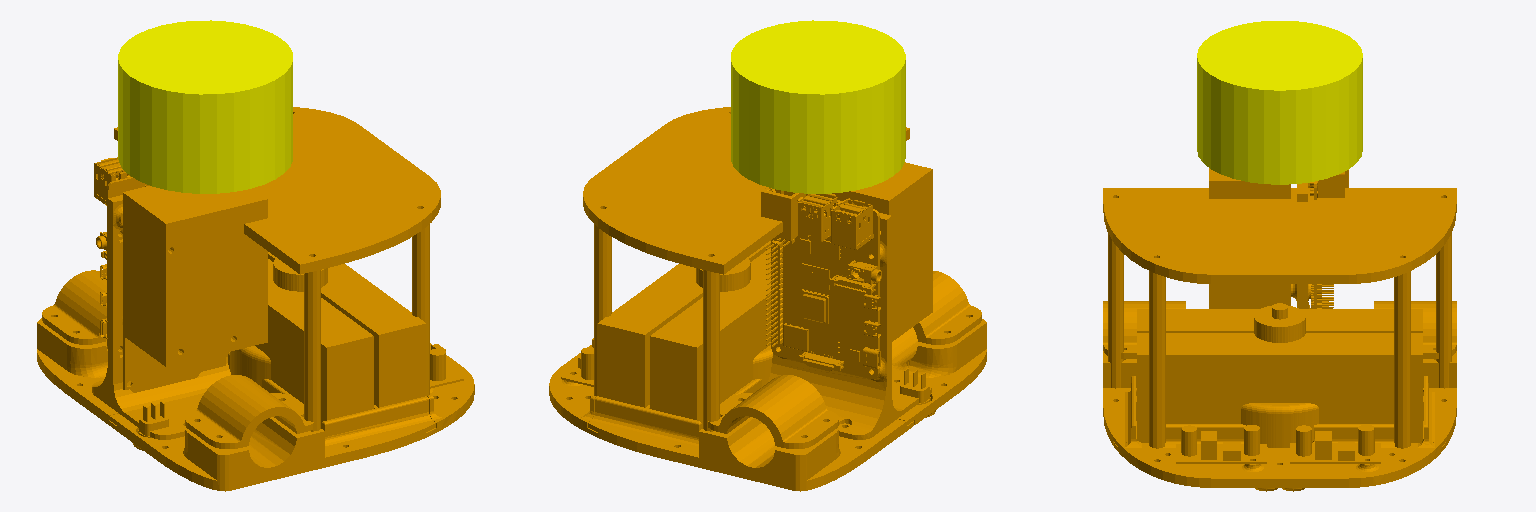
URDF robot description (course_robot):
<?xml version="1.0"?>
<!--
  Имя корневого линка = линк шасси в model.sdf и child_frame_id DiffDrive (course_robot_base_link).
  В RViz RobotModel: TF Prefix оставьте пустым — совпадает с child_frame_id DiffDrive (course_robot_base_link).
  Кадры вида course_robot/... из Gazebo склеиваются с base_link через static TF в start_everything.bash.
  Визуалы: rpy Z = 1.5708 как в model.sdf (меши CAD в мировой оси; без этого RViz «вбок» на 90° к Gazebo).
-->
<robot name="course_robot" version="1.0">
  <link name="course_robot_base_link">
    <visual>
      <origin xyz="0 0 0" rpy="0 0 1.5708"/>
      <geometry>
        <mesh filename="meshes/Platforma.STL" scale="1 1 1"/>
      </geometry>
    </visual>
    <visual>
      <origin xyz="0 0 0.1" rpy="0 0 1.5708"/>
      <geometry>
        <mesh filename="meshes/etaj_2.STL" scale="1 1 1"/>
      </geometry>
    </visual>
    <visual>
      <origin xyz="0 0 0" rpy="0 0 1.5708"/>
      <geometry>
        <mesh filename="meshes/Koleso_levoe.STL" scale="1 1 1"/>
      </geometry>
    </visual>
    <visual>
      <origin xyz="0 0 0" rpy="0 0 1.5708"/>
      <geometry>
        <mesh filename="meshes/Koleso_pravoe.STL" scale="1 1 1"/>
      </geometry>
    </visual>
    <visual>
      <origin xyz="0 0 0" rpy="0 0 1.5708"/>
      <geometry>
        <mesh filename="meshes/Motor_leviy.STL" scale="1 1 1"/>
      </geometry>
    </visual>
    <visual>
      <origin xyz="0 0 0" rpy="0 0 1.5708"/>
      <geometry>
        <mesh filename="meshes/Motor_praviy.STL" scale="1 1 1"/>
      </geometry>
    </visual>
    <visual>
      <origin xyz="0 0 0" rpy="0 0 1.5708"/>
      <geometry>
        <mesh filename="meshes/Sharik_levo.STL" scale="1 1 1"/>
      </geometry>
    </visual>
    <visual>
      <origin xyz="0 0 0" rpy="0 0 1.5708"/>
      <geometry>
        <mesh filename="meshes/Sharik_niz.STL" scale="1 1 1"/>
      </geometry>
    </visual>
    <visual>
      <origin xyz="0 0 0" rpy="0 0 1.5708"/>
      <geometry>
        <mesh filename="meshes/Sharik_pravo.STL" scale="1 1 1"/>
      </geometry>
    </visual>
  </link>

  <link name="course_robot/lidar_link">
    <visual>
      <origin xyz="0 0 0" rpy="0 0 0"/>
      <geometry>
        <cylinder radius="0.04" length="0.05"/>
      </geometry>
      <material name="yellow">
        <color rgba="1.0 1.0 0.0 1.0"/>
      </material>
    </visual>
  </link>

  <joint name="lidar_joint" type="fixed">
    <parent link="course_robot_base_link"/>
    <child link="course_robot/lidar_link"/>
    <!-- Как lidar_link pose в model.sdf (relative_to course_robot_base_link) -->
    <origin xyz="-0.05 0 0.15" rpy="0 0 0"/>
  </joint>

</robot>

--- What the picture shows (computed from the rendered views, not written in the file) ---
3 views of the same robot in one strip: view 1: azimuth 30°, elevation 25°; view 2: azimuth 150°, elevation 25°; view 3: azimuth 270°, elevation 25° (orthographic).
Robot: course_robot — 2 links, 1 joints (1 fixed); root link course_robot_base_link; default pose: every joint at zero.
Visible links, largest first — view 1: course_robot_base_link, course_robot/lidar_link; view 2: course_robot_base_link, course_robot/lidar_link; view 3: course_robot_base_link, course_robot/lidar_link.
Boxes of the visible links, x1,y1,x2,y2 form: course_robot_base_link: (37,107,474,491); course_robot/lidar_link: (118,20,292,193); course_robot_base_link: (549,107,986,491); course_robot/lidar_link: (731,20,905,193); course_robot_base_link: (1103,168,1456,491); course_robot/lidar_link: (1197,21,1362,184).
Bounding box of the posed robot: 0.1658 × 0.17 × 0.186 m (x, y, z).
9 mesh visuals loaded from 9 distinct referenced files (9 binary STL).
